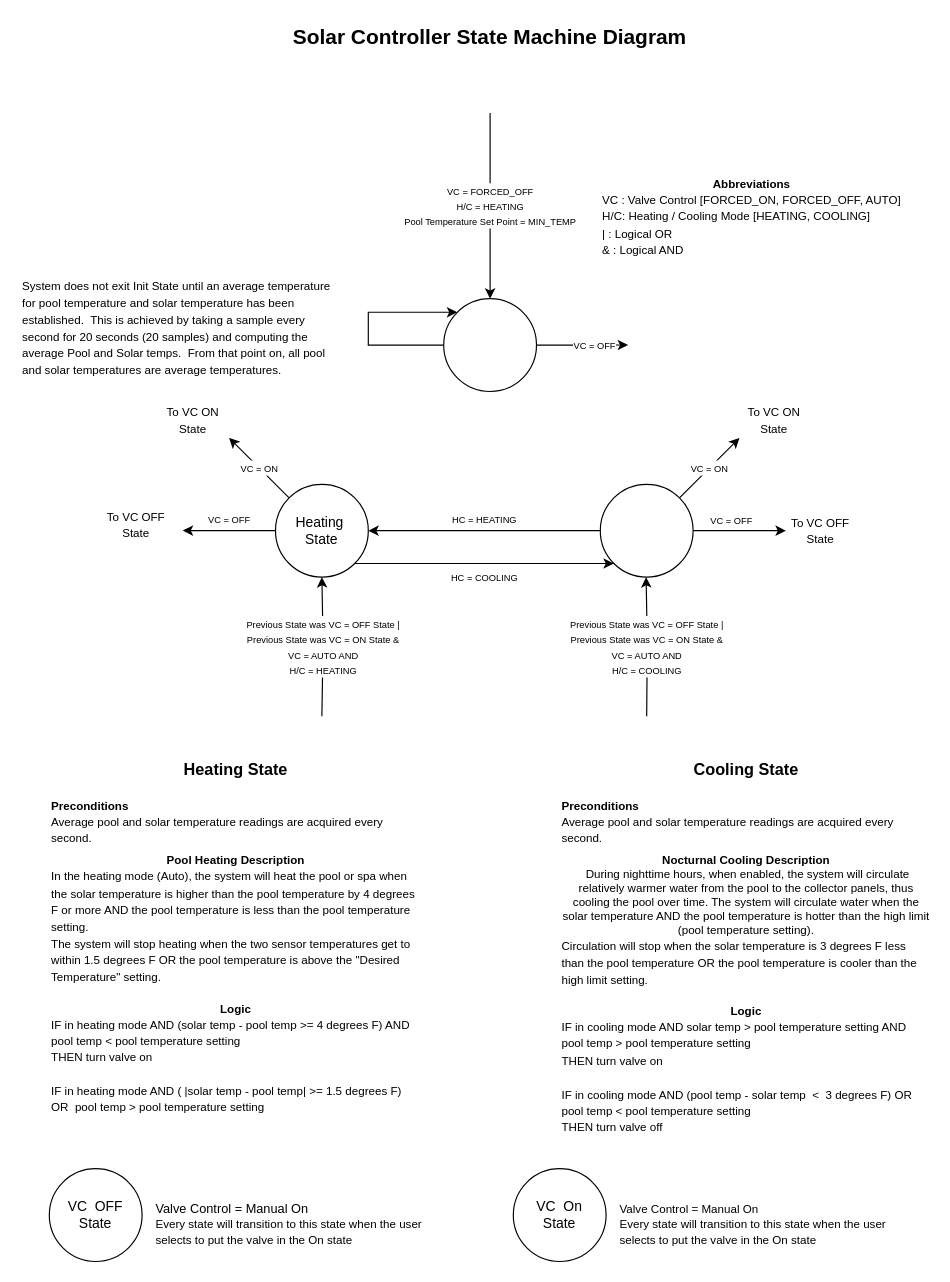
Some shapes in this 950 by 1282 pixel diagram are drawn without their labels. The box of each missing label's shape, as (x1, y1, x2, y2) in pixels:
Cooling State: (599, 483, 693, 577)
Init State: (443, 298, 536, 392)
